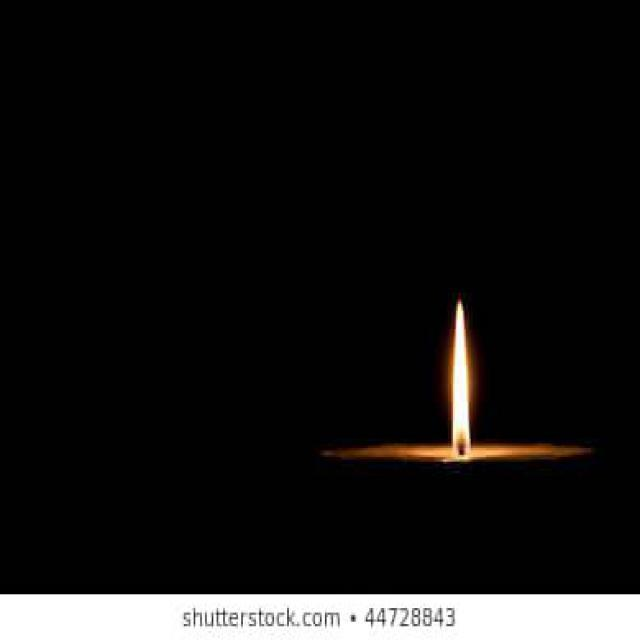Fire: (452, 301, 470, 454)
